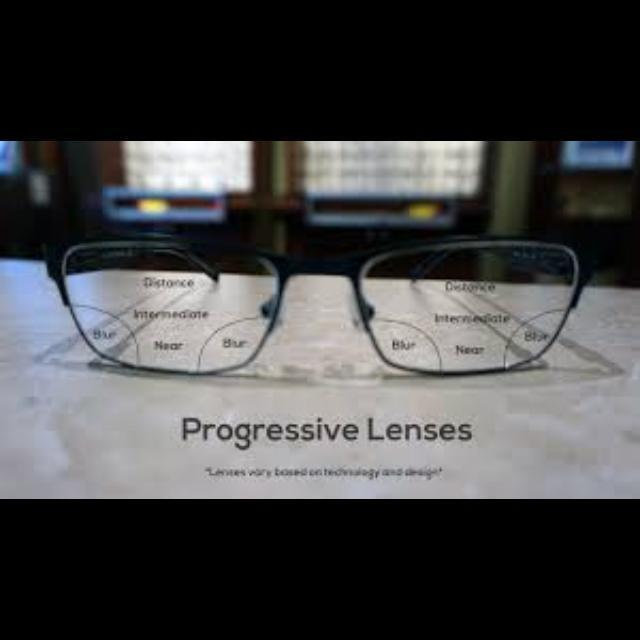glasses: (46, 232, 604, 374)
